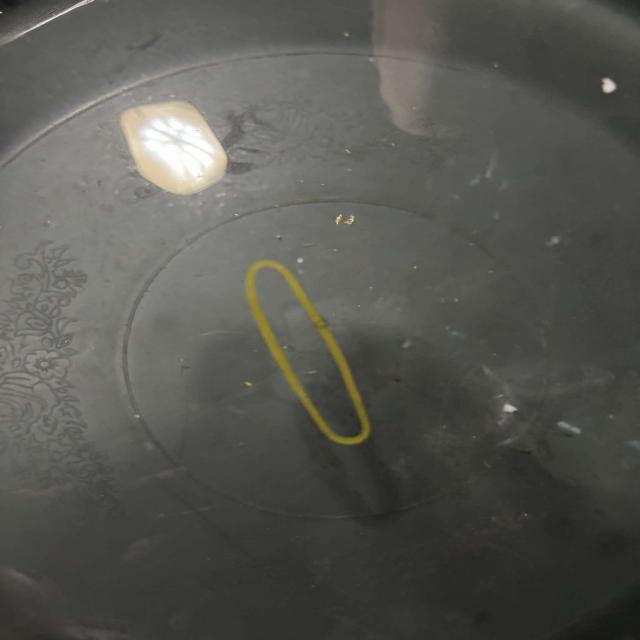Rubberband: (212, 252, 399, 462)
